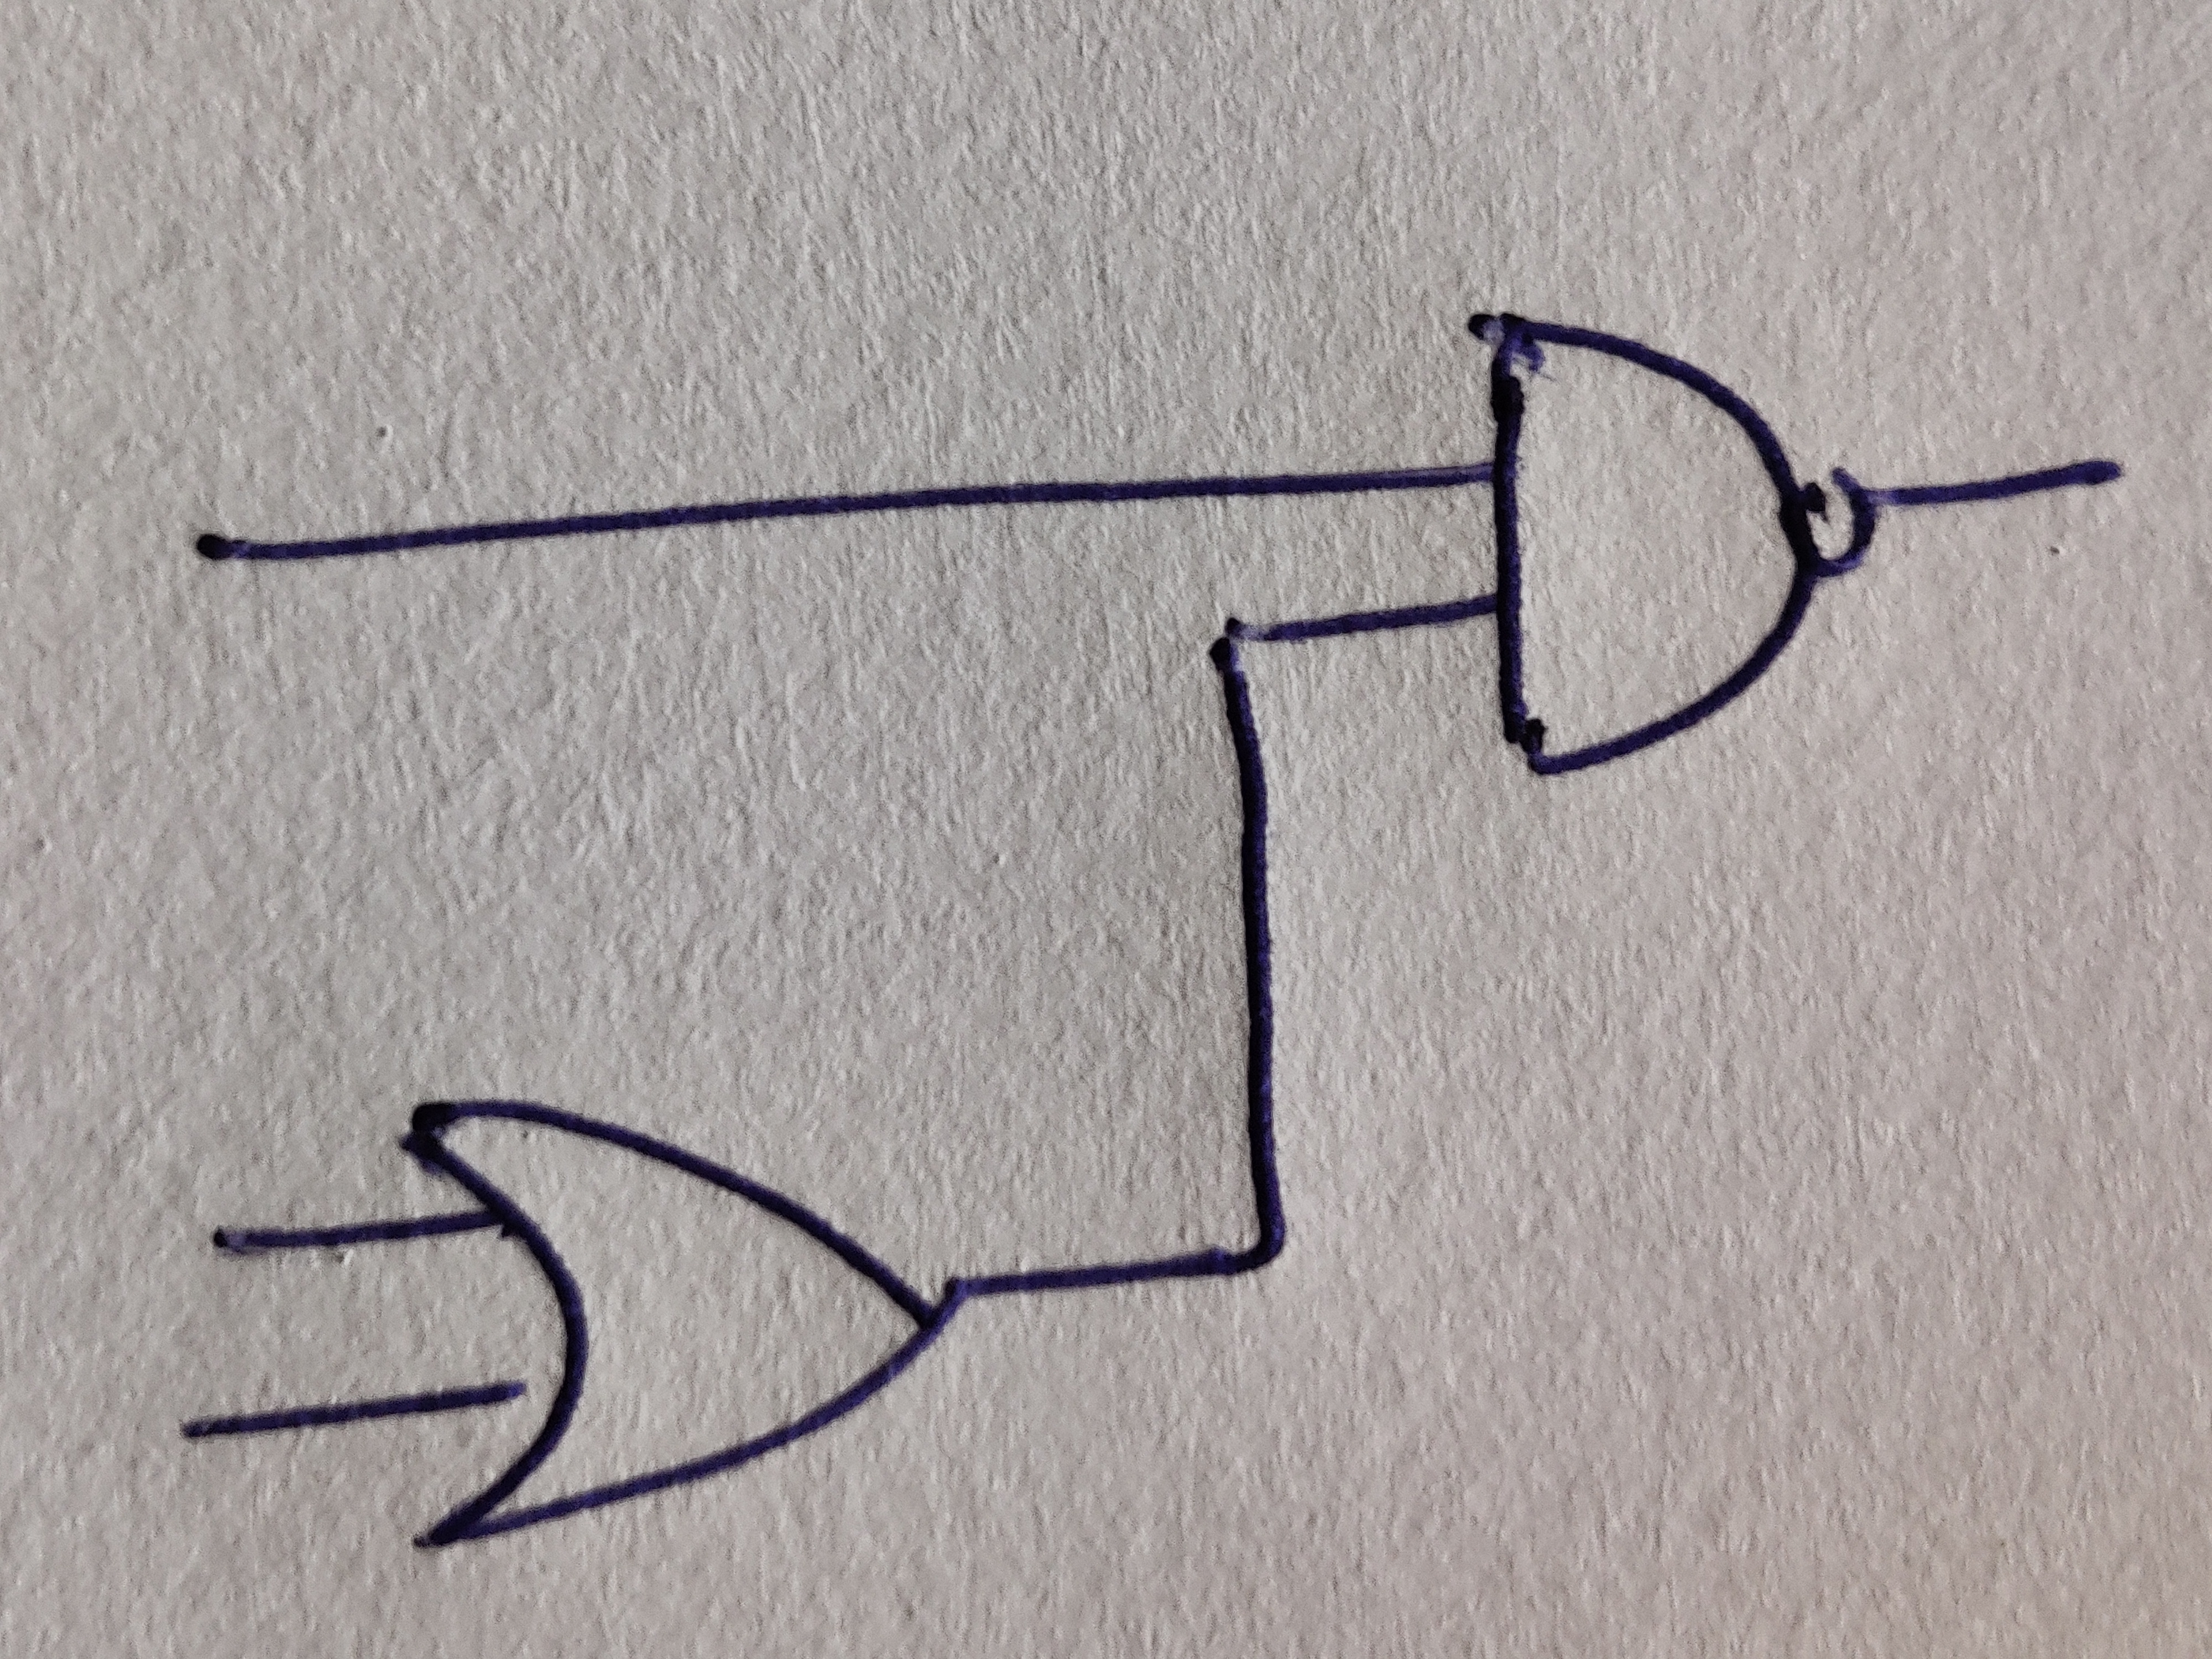and: (1467, 310, 1818, 774)
not: (1787, 467, 1876, 575)
or: (402, 1100, 961, 1549)
